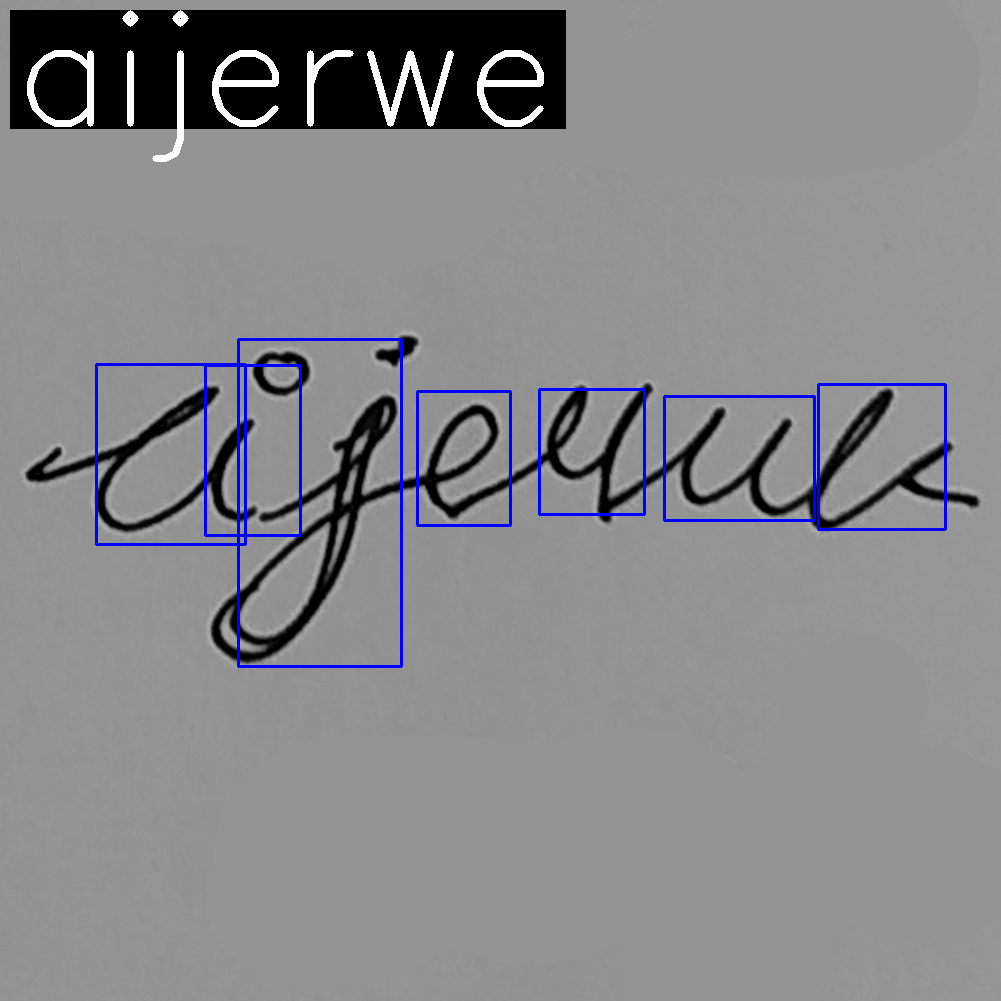c: (92, 381, 227, 537)
e: (424, 400, 509, 524)
i: (204, 346, 315, 526)
j: (211, 328, 423, 664)
k: (803, 383, 983, 536)
r: (512, 378, 658, 528)
u: (676, 403, 794, 519)
